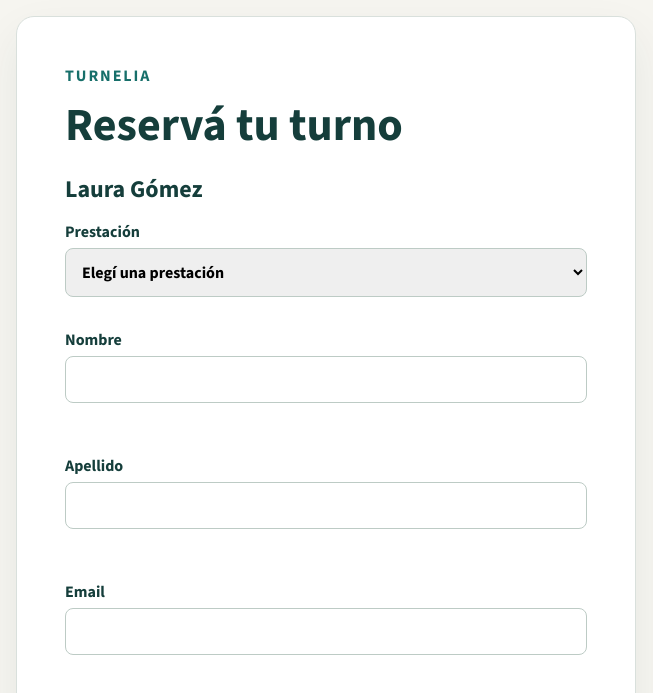
Test case: PublicBooking › muestra enlace inválido y día sin horarios
(page scrolled)
Select "Consulta · 30 min · presencial" in the dropdown labelled "Prestación". click: (326,272)
box: [65,248,587,297]
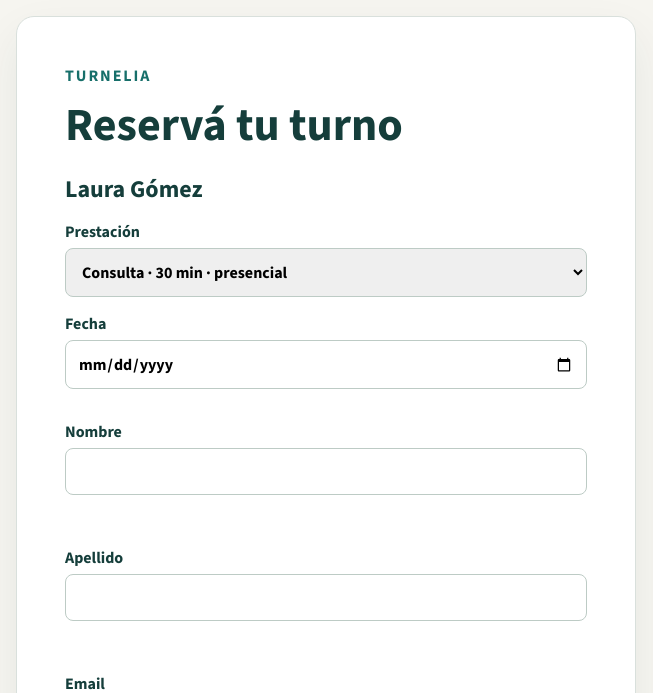
Type "2026-09-15" into the date field labelled "Fecha". click: (326,364)
box: [65,340,587,389]
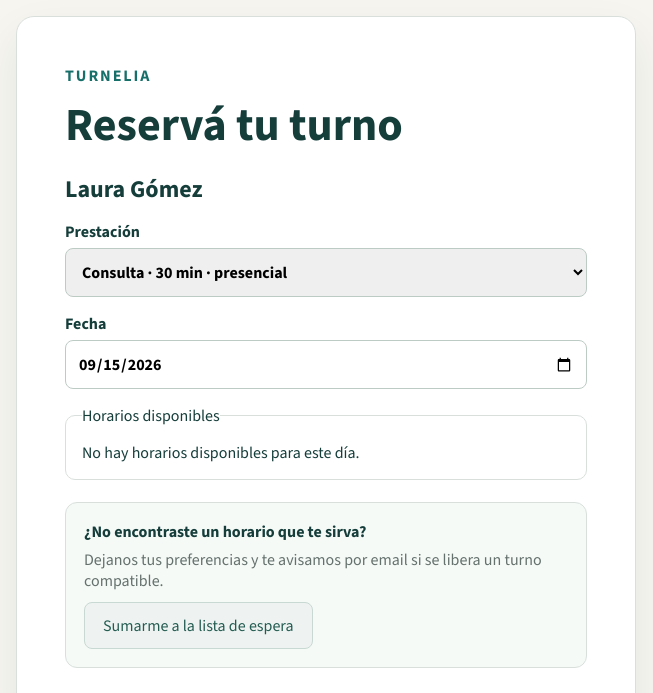
Now the text "No hay horarios disponibles para este día." is shown, box [82,442,360,463]
